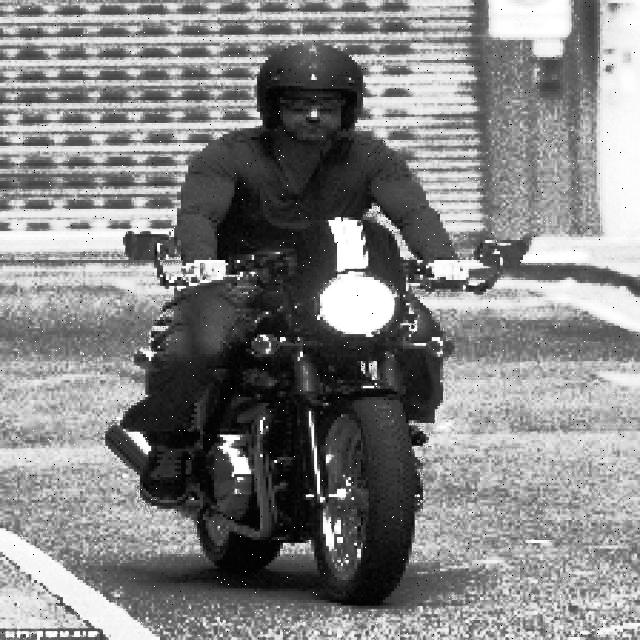Bike: (204, 237, 536, 607)
